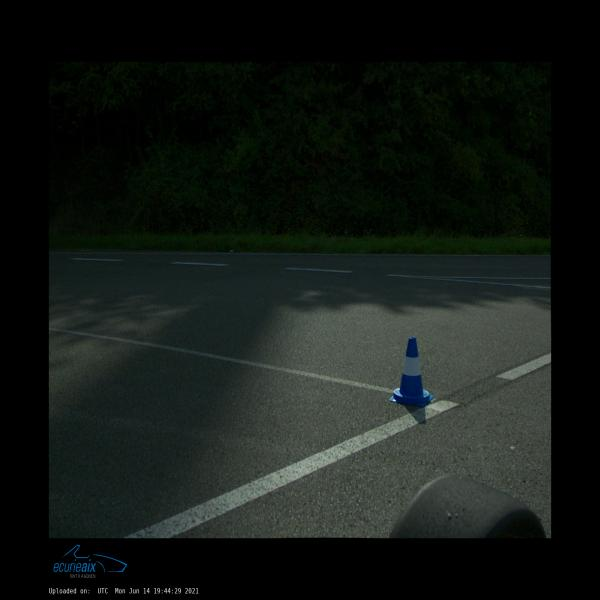blue_cone: (389, 337, 434, 406)
